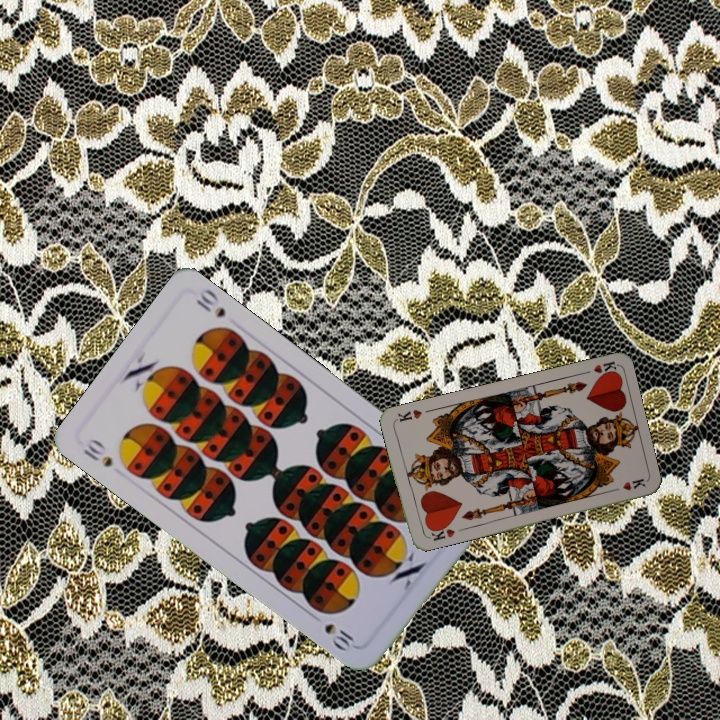HK: (577, 357, 619, 380), (423, 520, 457, 544)
S10: (79, 435, 116, 470)
